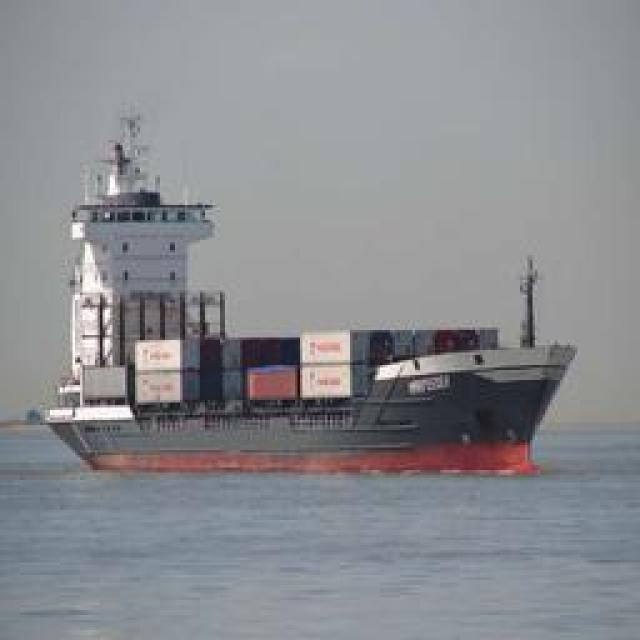CIV_Ship: (38, 322, 558, 468)
